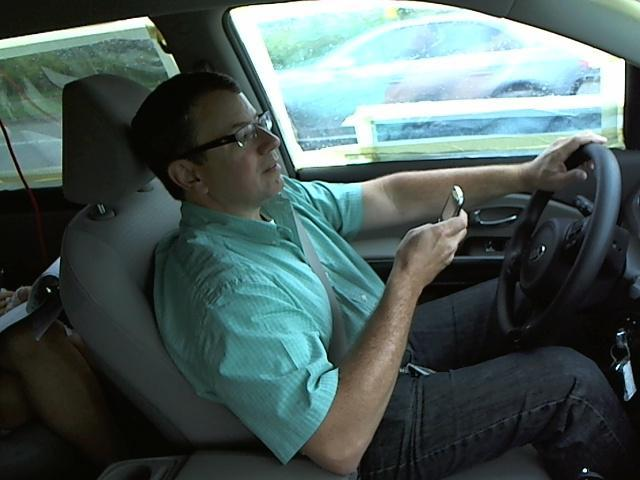PhoneUse: (432, 183, 466, 241)
